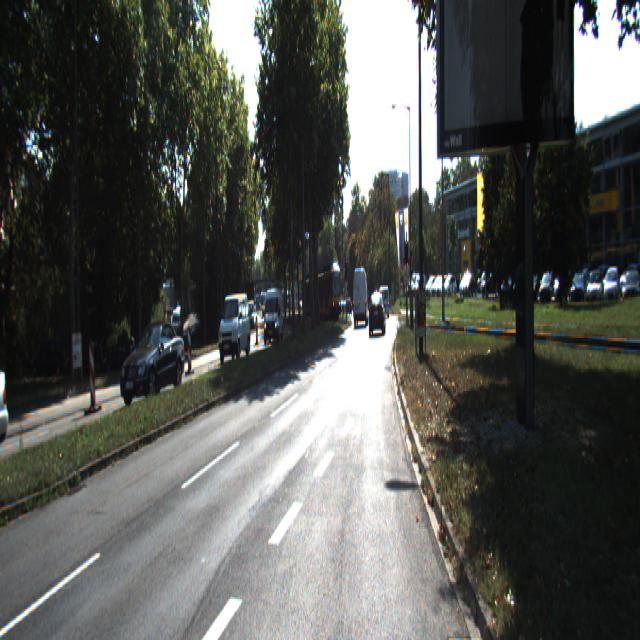Car: (120, 314, 185, 405), (218, 292, 250, 362), (308, 268, 343, 323), (263, 288, 284, 347), (352, 268, 369, 328), (368, 293, 386, 337), (379, 286, 390, 318)
